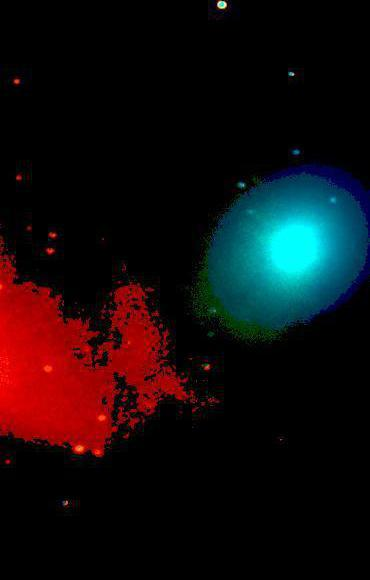star: (242, 226, 272, 256)
